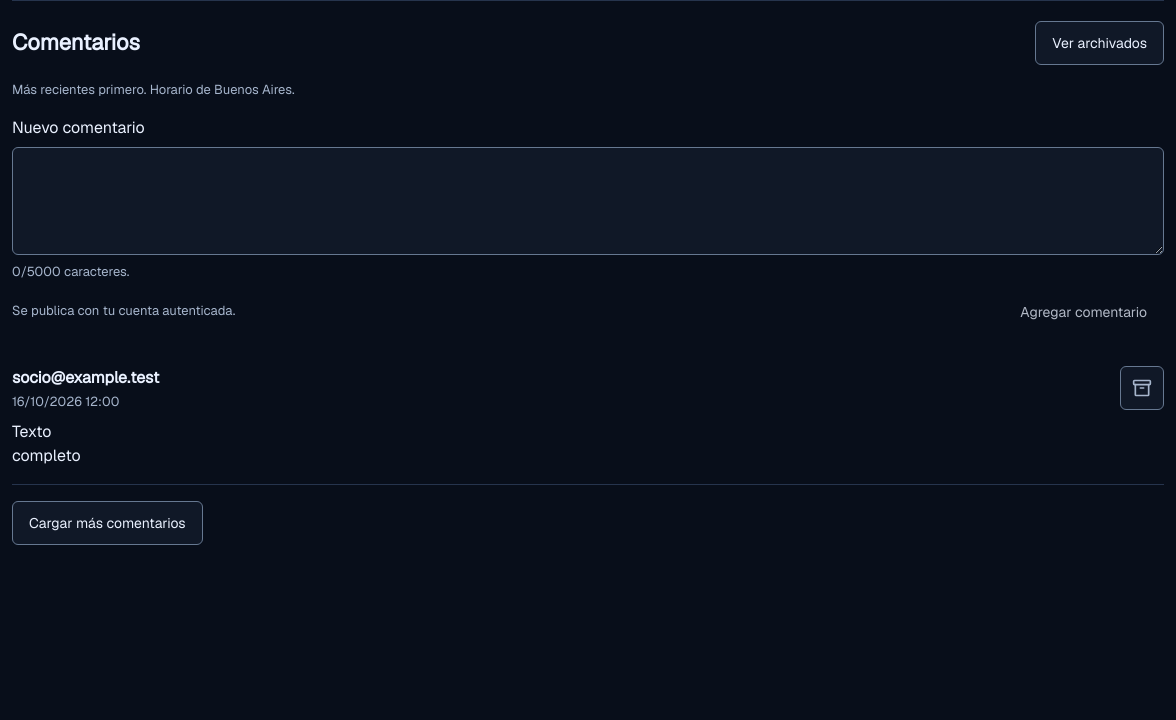
Test: comment interface › retains paged rows on a failed next page and retries the exact microsecond cursor
The width and height of the screenshot is (1176, 720).
Click the button "Cargar más comentarios" at (107, 523), box left=12, top=501, right=203, bottom=545
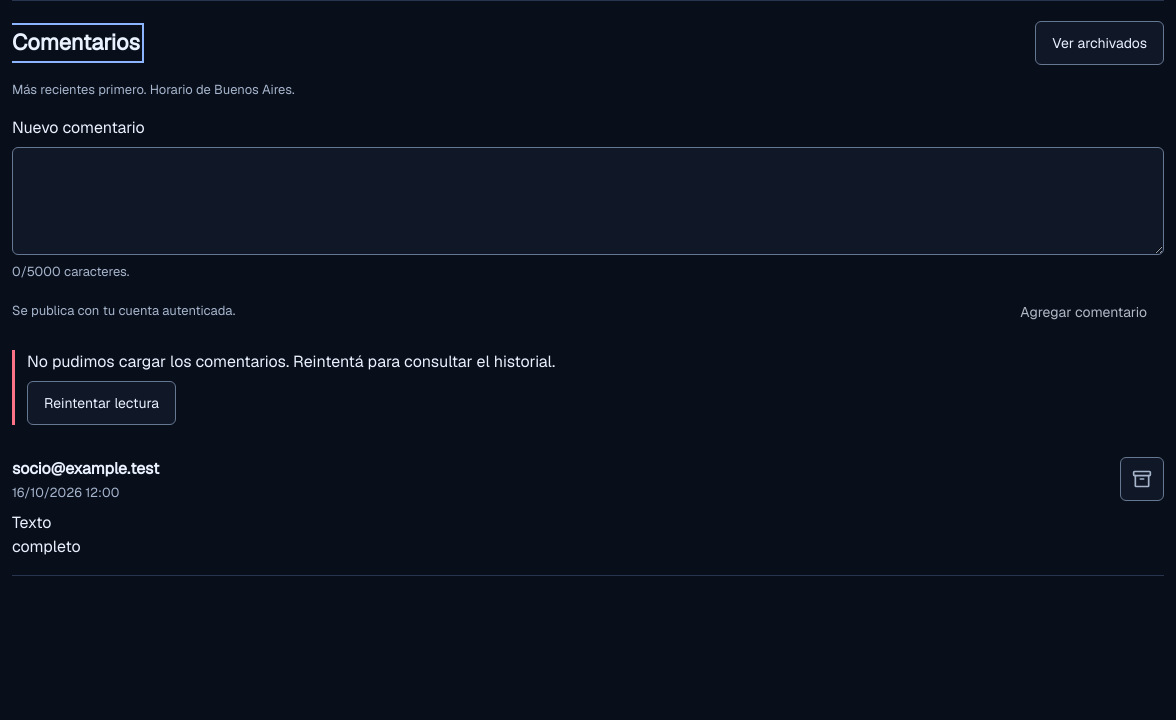
Expected: the text "Texto completo" is shown, left=12, top=512, right=81, bottom=557
Now the message is shown, box left=12, top=350, right=1164, bottom=425
Click the button "Reintentar lectura" at (101, 403), box left=27, top=381, right=176, bottom=425
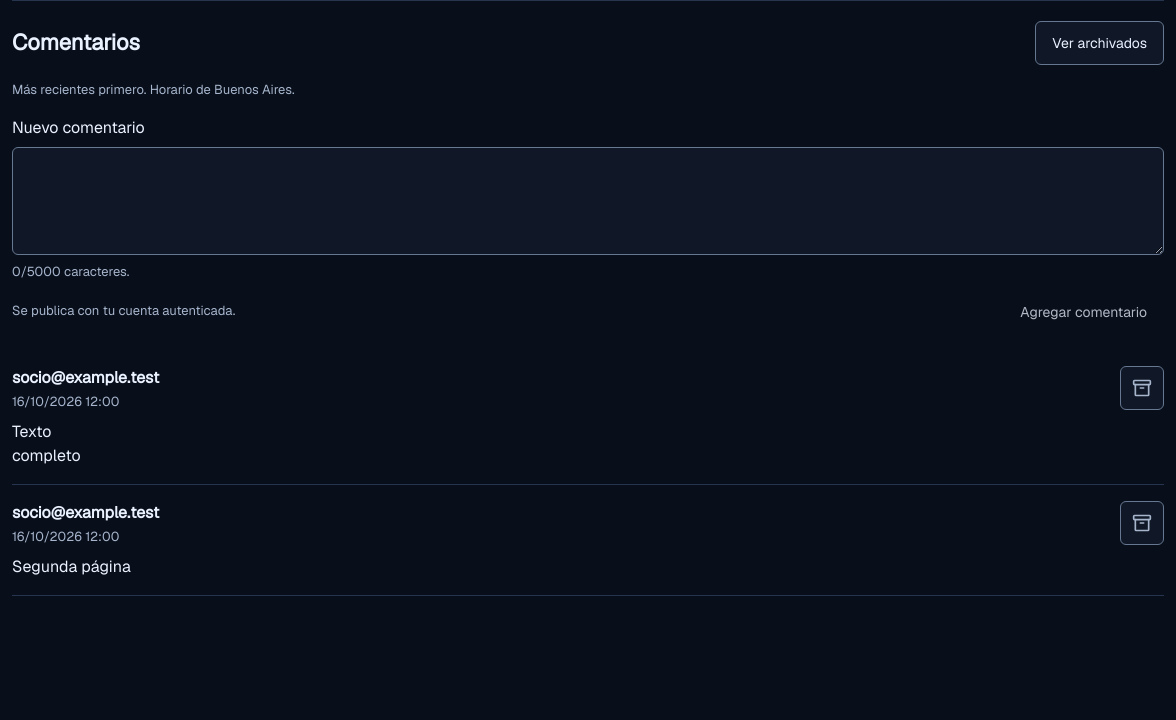
Expected: the button "Cargar más comentarios" is not shown
Now the text "Segunda página" is shown, box left=12, top=556, right=131, bottom=577
